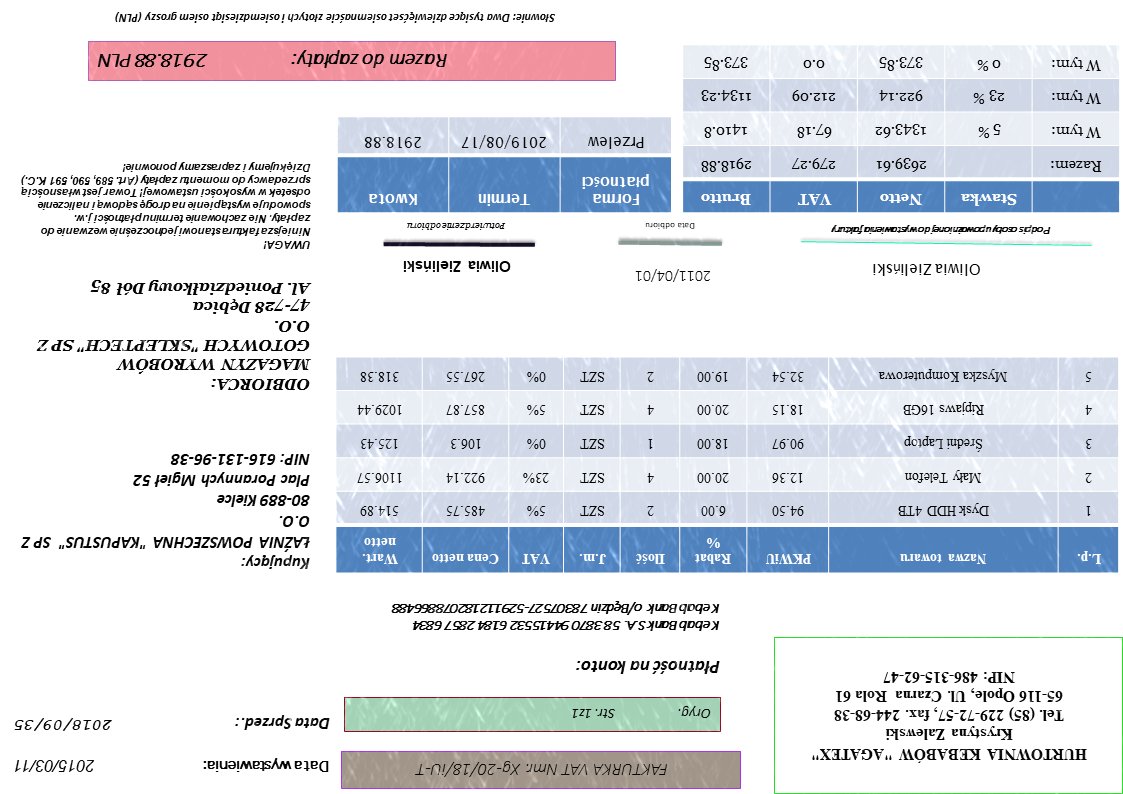Table: (334, 356, 1121, 574), (682, 44, 1121, 213), (337, 115, 673, 215)
TextBox: (19, 449, 314, 573), (34, 276, 314, 394), (808, 664, 1092, 770), (17, 160, 313, 255), (389, 600, 723, 636), (112, 8, 559, 30), (96, 49, 451, 74), (413, 760, 674, 780), (828, 221, 1054, 239), (201, 753, 332, 778), (574, 656, 724, 677), (568, 704, 715, 724), (868, 260, 985, 281), (12, 714, 116, 735), (233, 713, 332, 734), (401, 258, 515, 276), (12, 757, 97, 776), (634, 266, 713, 285), (404, 220, 509, 234), (644, 221, 699, 232)
